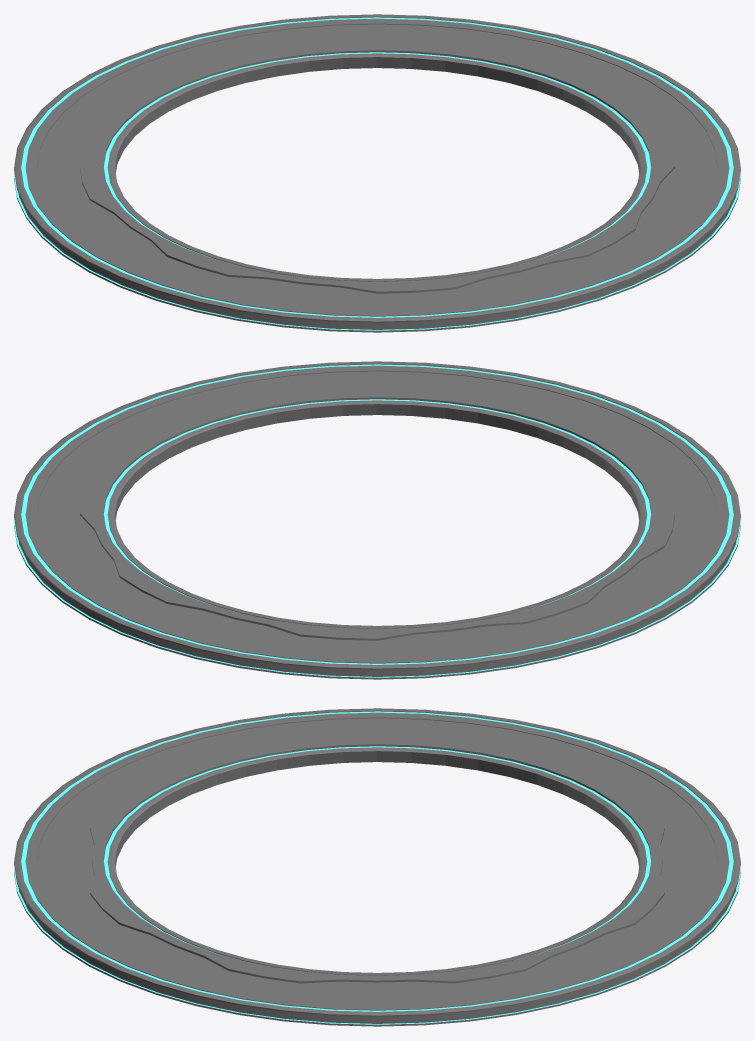
Rendered from Ring_03.fbx.
3 views of the same model, one above another, from view 1: azimuth 30°, elevation 25°; view 2: azimuth 150°, elevation 25°; view 3: azimuth 270°, elevation 25° (orthographic).
Parts seen in each view (by area): view 1: Ring_Outer_008; view 2: Ring_Outer_008; view 3: Ring_Outer_008.
Boxes of the visible parts, x1,y1,x2,y2 form: Ring_Outer_008: (14, 14, 740, 332); Ring_Outer_008: (14, 361, 740, 679); Ring_Outer_008: (14, 708, 740, 1026).
Bounding box in the file's own units: 36 × 0.7082 × 36.
